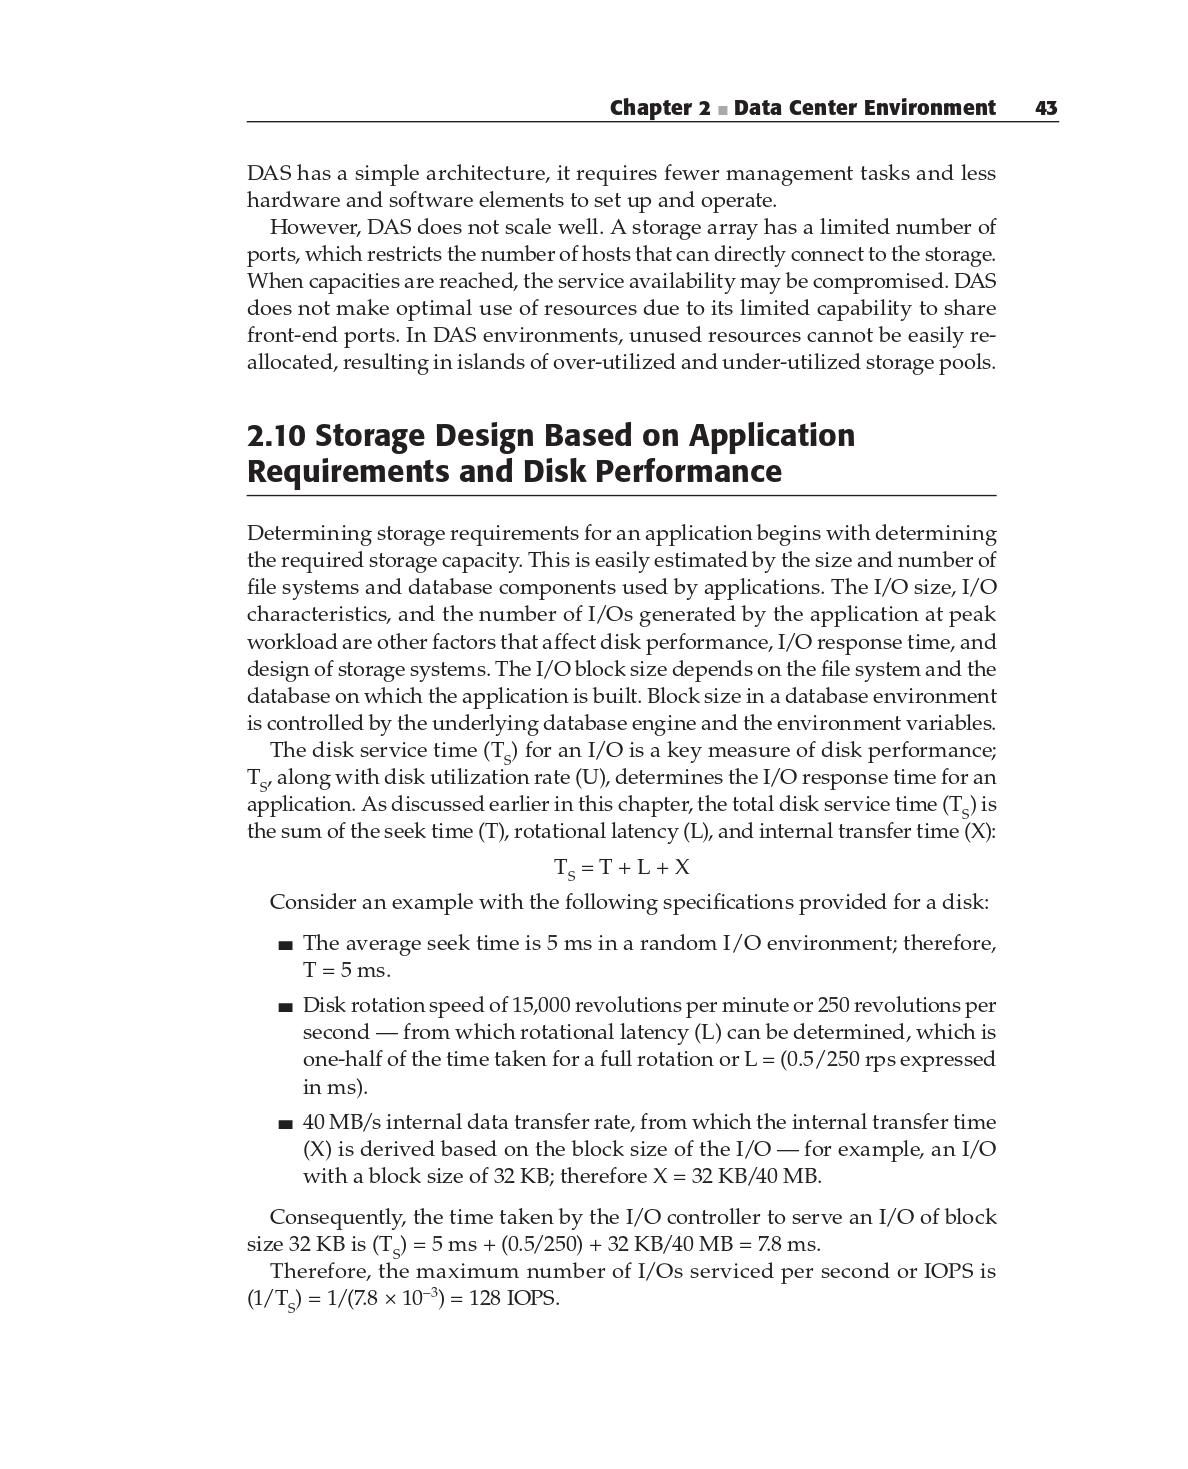Paragraph: (240, 511, 1005, 736), (249, 216, 1007, 385), (240, 1198, 1007, 1308), (236, 742, 1007, 850), (298, 984, 1005, 1084), (298, 1107, 999, 1183), (240, 408, 864, 491), (242, 158, 996, 210), (298, 928, 1005, 982), (263, 876, 1005, 920), (607, 79, 1066, 122), (529, 853, 736, 885)
